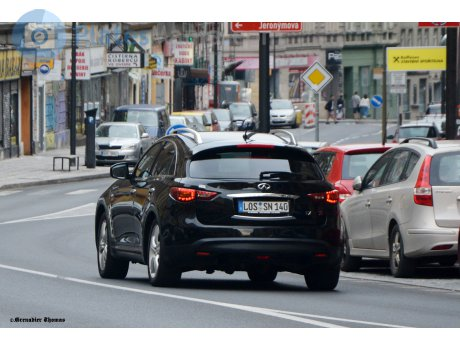License Plates: (241, 198, 288, 212)
